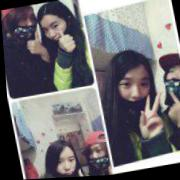NONE: (41, 15, 72, 49), (49, 150, 79, 178)
WRONG: (113, 70, 155, 114), (9, 8, 41, 45), (160, 63, 180, 104), (85, 145, 108, 173)
